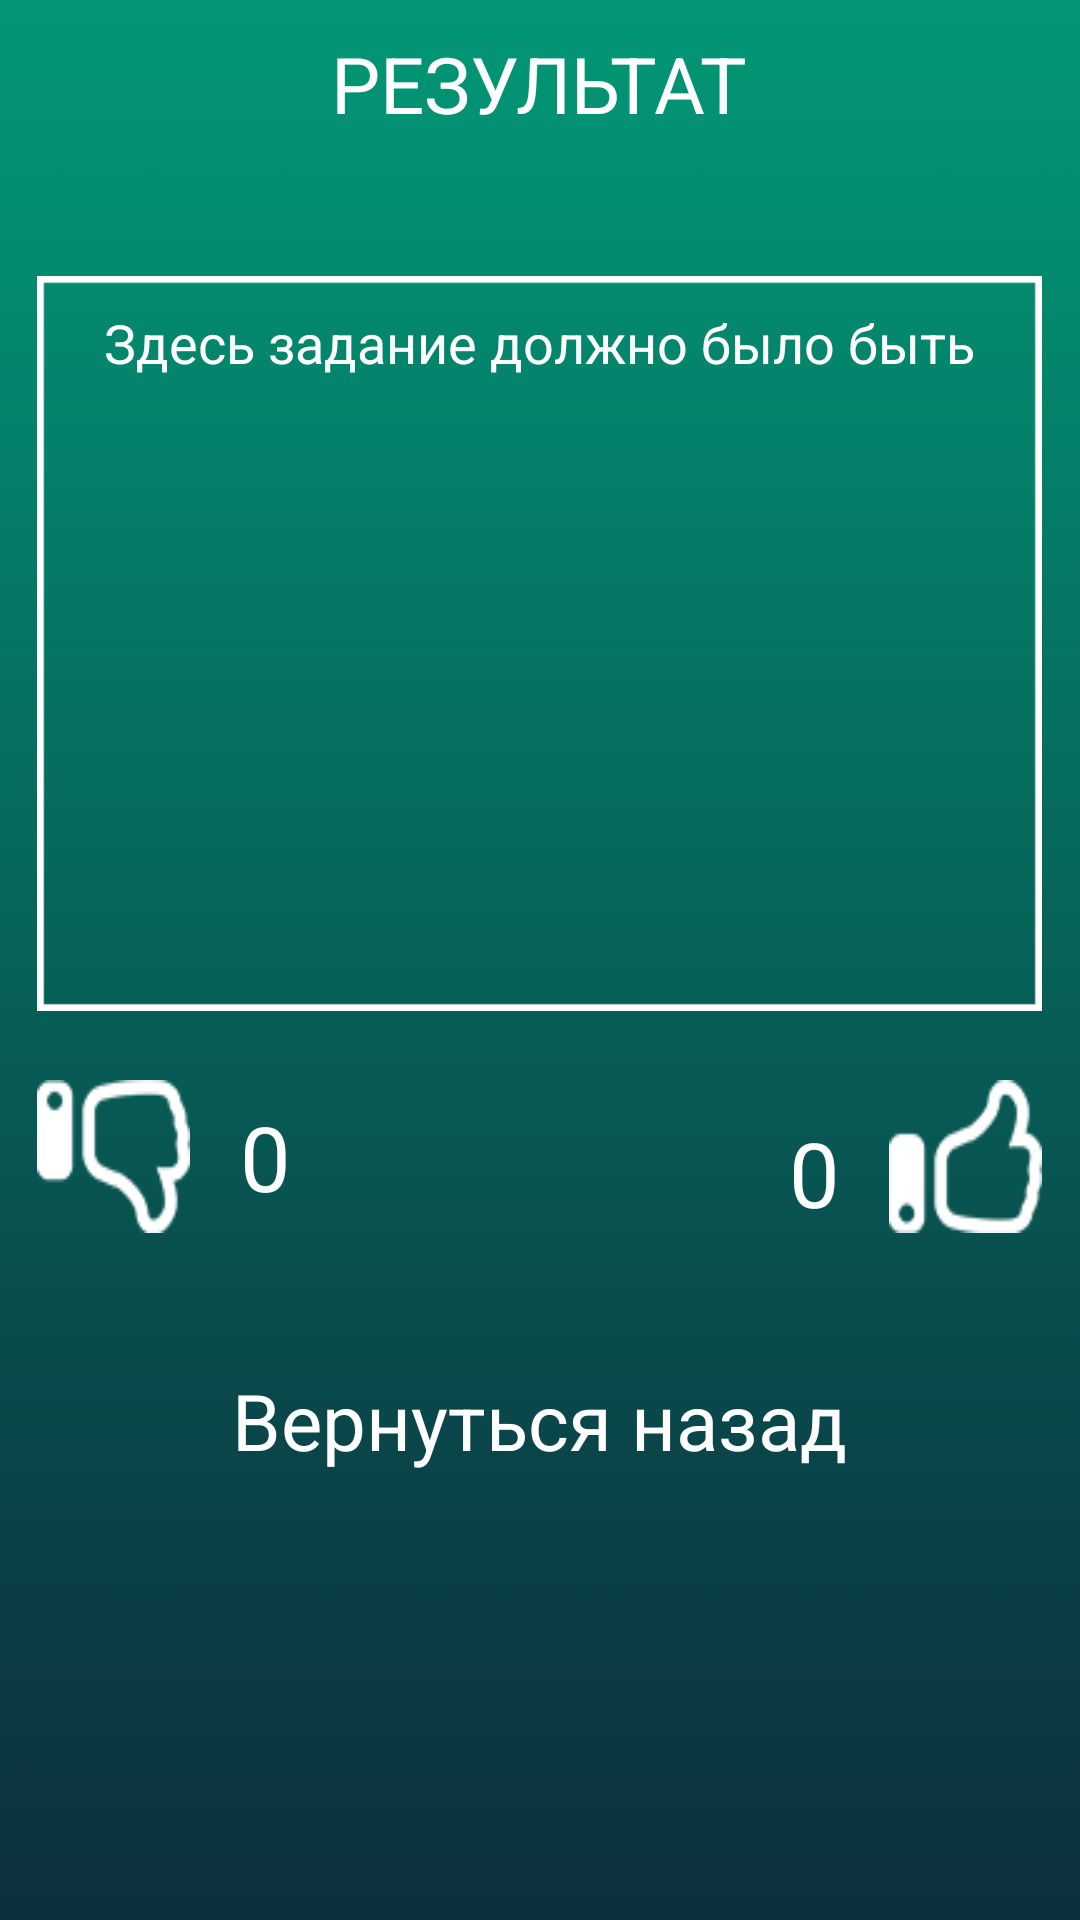

Named icons in this screenshot (1080 x 1920) and their centers, (x=x, y=y):
dislike: (x=113, y=1156)
like: (x=965, y=1156)
